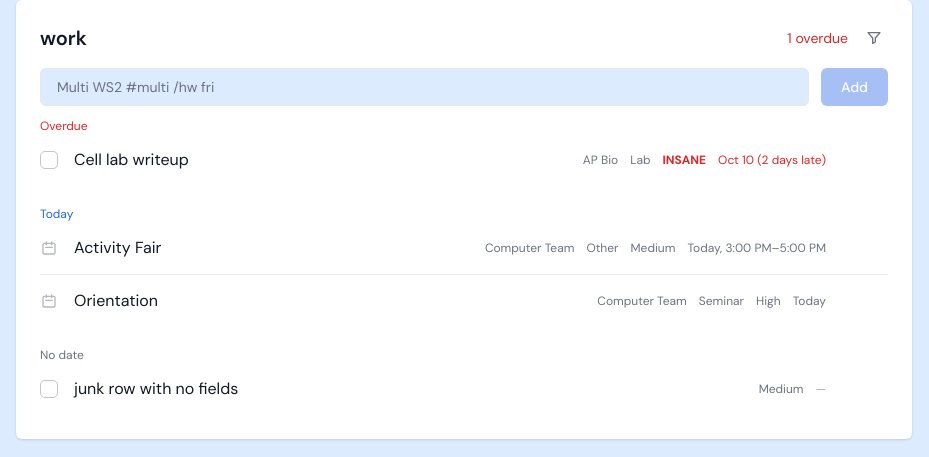
Scenario: clicking a row's pill filters by it, clicking again clears it
The image size is (929, 457).
Check: the button "Activity Fair" is shown, box [68,234,467,262]
Click the button "INSANE": (684,160) [663,152,706,168]
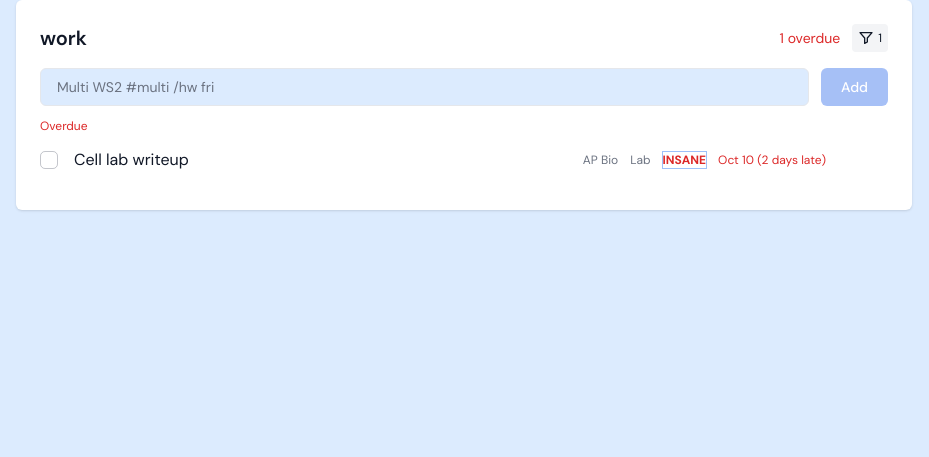
Check: the button "Cell lab writeup" is shown, box [68,146,565,174]
Check: the button "Activity Fair" is gone
Click the button "INSANE": (684,160) [663,152,706,168]
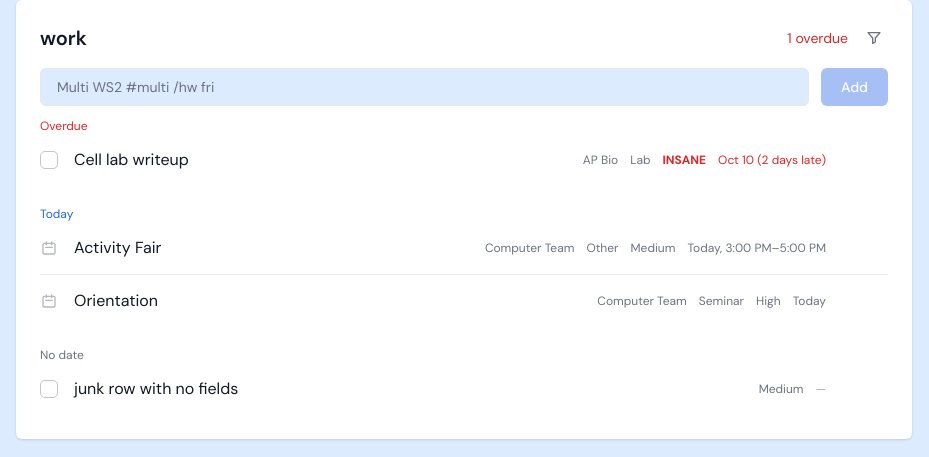
Check: the button "Activity Fair" is shown, box [68,234,467,262]
